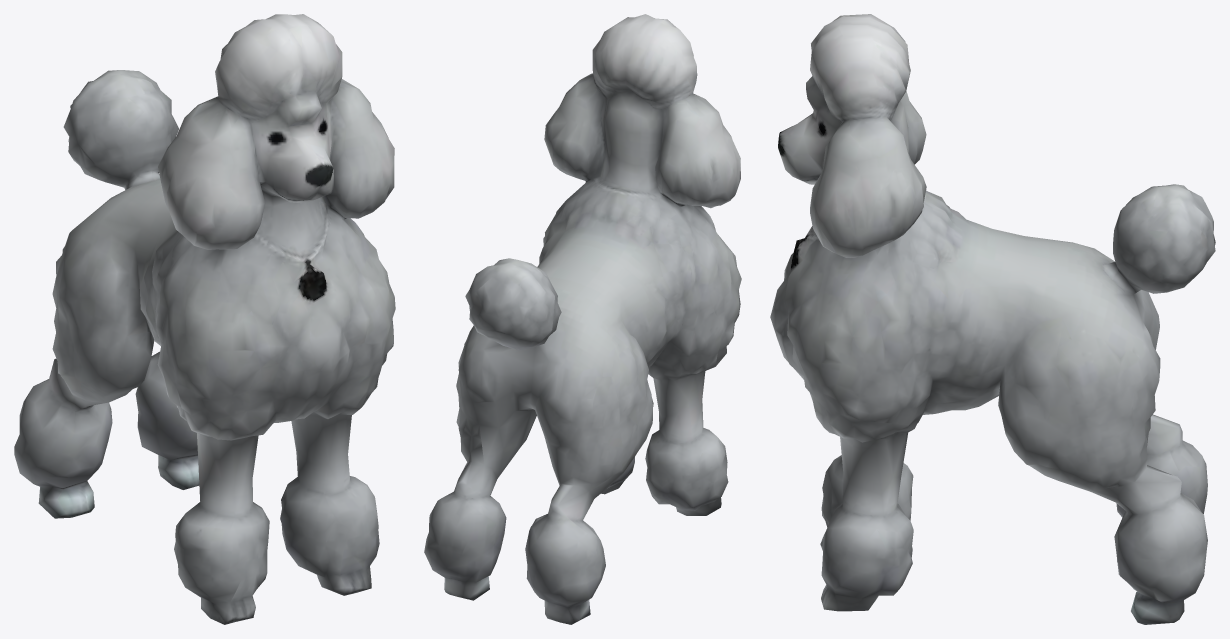
Rendered from detail_6_lo2.glb.
3 views of the same model, side by side, from view 1: azimuth 30°, elevation 25°; view 2: azimuth 150°, elevation 25°; view 3: azimuth 270°, elevation 25° (orthographic). The views are drawn at different scales.
Visible parts, largest first — view 1: Mesh_0.001; view 2: Mesh_0.001; view 3: Mesh_0.001.
Boxes of the visible parts, x1,y1,x2,y2 form: Mesh_0.001: (14, 14, 395, 624); Mesh_0.001: (424, 14, 741, 624); Mesh_0.001: (770, 14, 1215, 624).
Size of the model in its own units: 0.3881 by 1.01 by 0.7177.
1 material, 1 textured.
